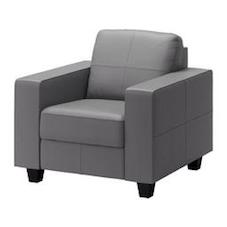chair: (9, 13, 213, 204), (9, 13, 203, 206)
